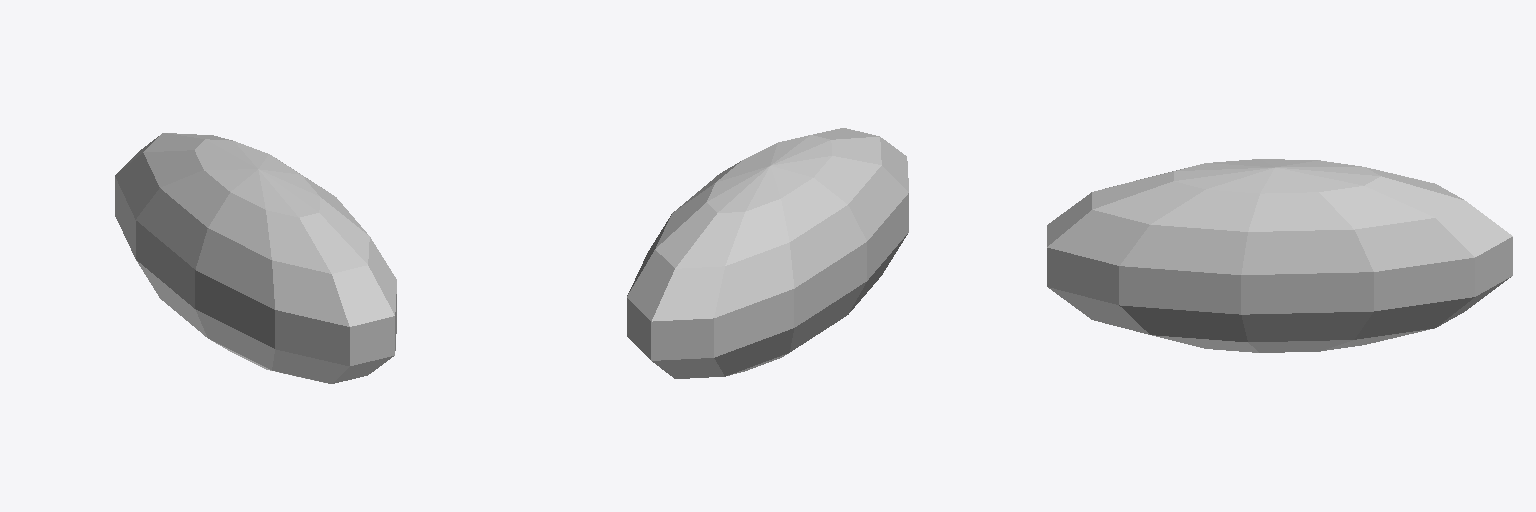
File: stdbullet.obj
The picture shows the model from 3 angles: view 1: azimuth 30°, elevation 25°; view 2: azimuth 150°, elevation 25°; view 3: azimuth 270°, elevation 25°; orthographic projection.
Parts seen in each view (by area): view 1: Sphere; view 2: Sphere; view 3: Sphere.
Boxes of the visible parts, <box> form: Sphere: <box>115,133,396,383</box>; Sphere: <box>627,128,908,378</box>; Sphere: <box>1047,159,1512,352</box>.
Size of the model in its own units: 1.24 by 1.31 by 3.12.